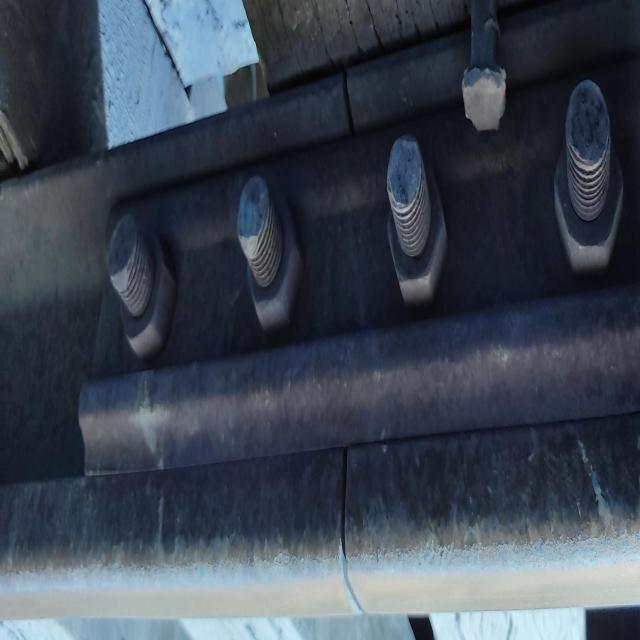Good Joint: (77, 83, 634, 474)
